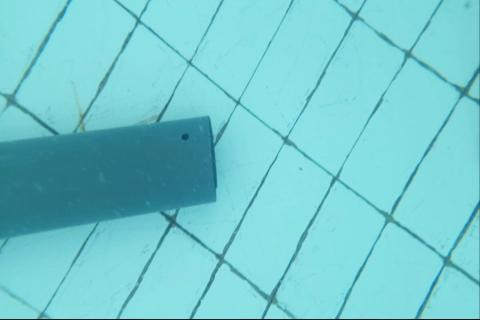kebocoran: (181, 133, 188, 140)
